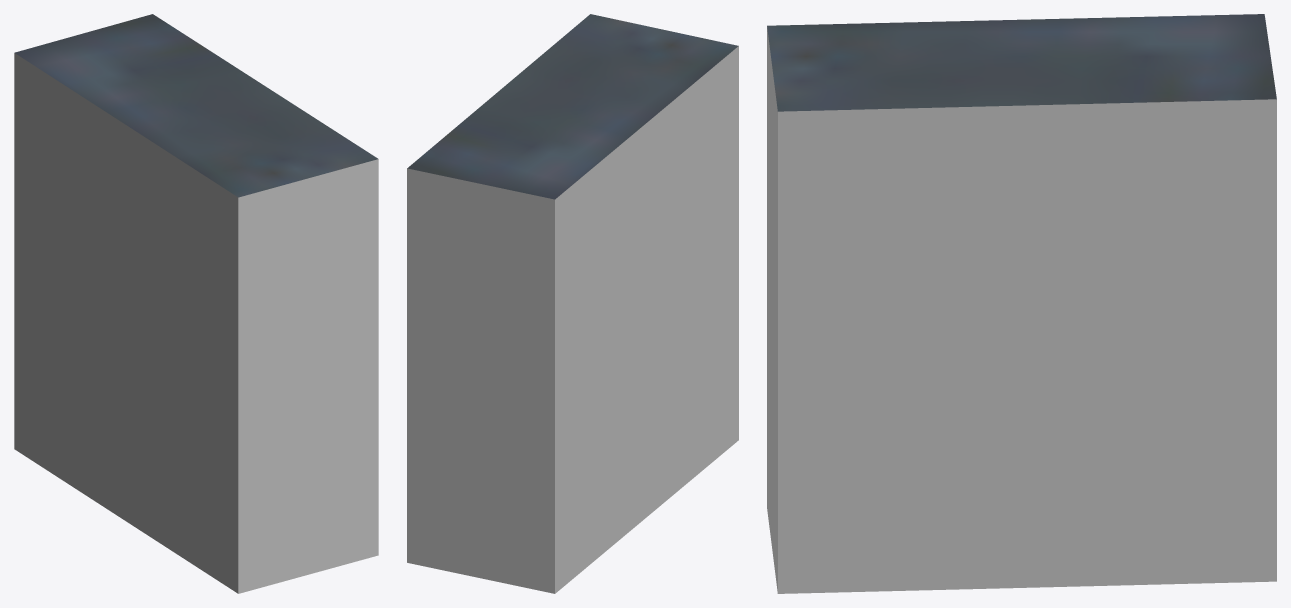
File: DEBW_0010007THYE.gltf
The picture shows the model from 3 angles, left to right: view 1: azimuth 30°, elevation 25°; view 2: azimuth 150°, elevation 25°; view 3: azimuth 270°, elevation 25°; orthographic projection. The views are drawn at different scales.
Visible parts, largest first — view 1: Z_UP; view 2: Z_UP; view 3: Z_UP.
Part boxes in pixels (bbox=[...]): Z_UP: bbox=[14, 14, 378, 593]; Z_UP: bbox=[407, 14, 738, 593]; Z_UP: bbox=[767, 14, 1276, 593].
Bounding box in the file's own units: 1.5 × 3.45 × 3.31.
Materials: 2 (1 with a texture image).
